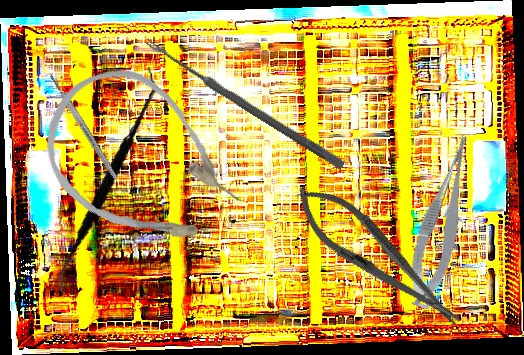Cannula: (17, 44, 266, 282)
Micro Scissor: (393, 131, 494, 312)
Needle Holder: (282, 171, 474, 344)
Scalpel Handle: (47, 72, 120, 182)
Spatula Surgical: (31, 66, 180, 298)
Surgical Spoon: (142, 37, 347, 170)
